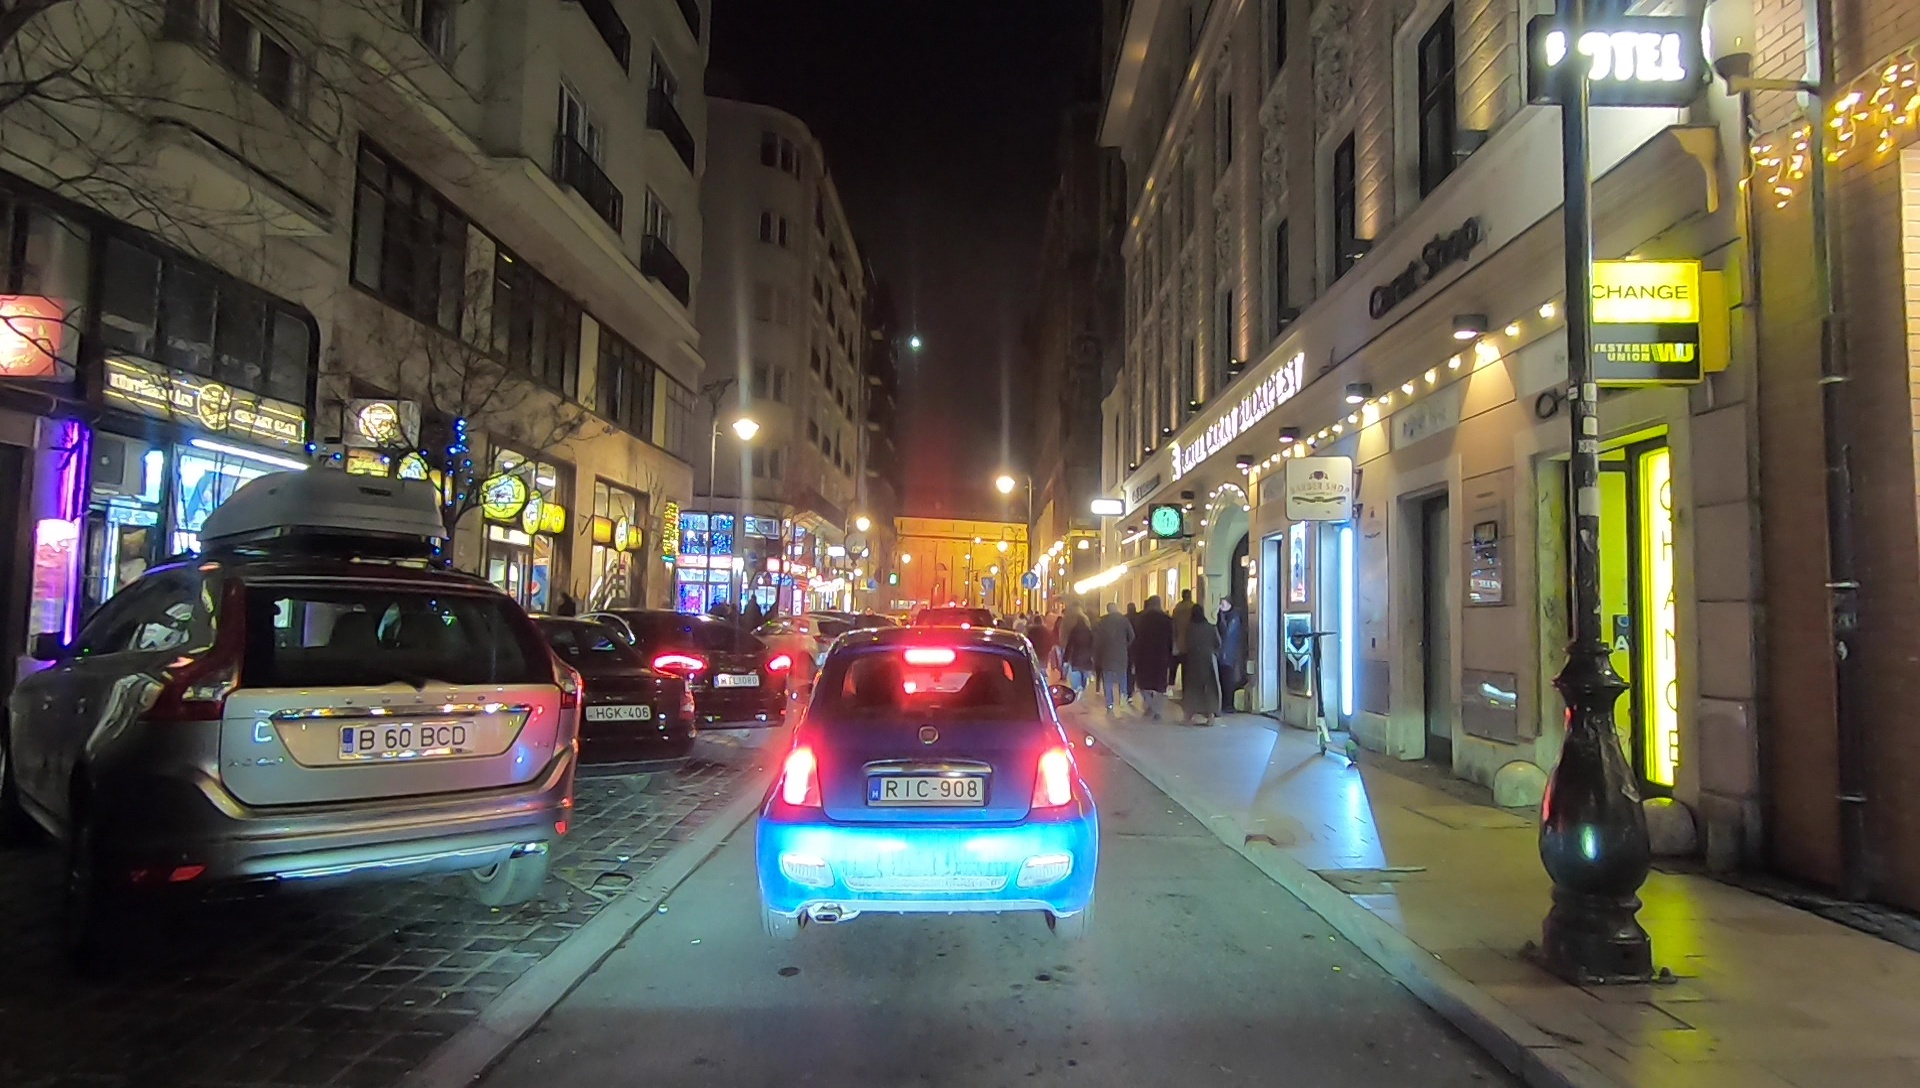person: (1181, 606, 1219, 724), (1096, 603, 1131, 717), (1140, 602, 1171, 722), (1214, 599, 1246, 714), (1169, 591, 1199, 703), (1064, 619, 1094, 701), (1125, 602, 1146, 706), (1027, 619, 1053, 682), (556, 592, 577, 656), (742, 596, 763, 651)
